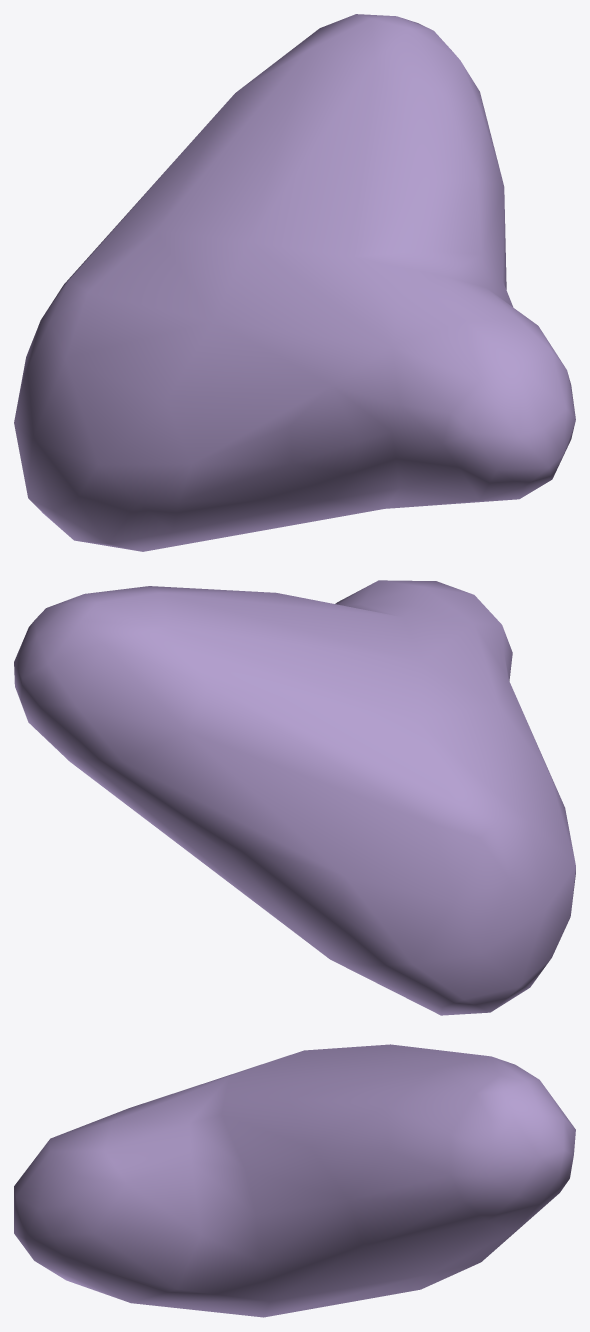
3 views of the same model, one above another, from view 1: azimuth 30°, elevation 25°; view 2: azimuth 150°, elevation 25°; view 3: azimuth 270°, elevation 25° (orthographic). The views are drawn at different scales.
Parts seen in each view (by area): view 1: 左侧泪小管壶腹; view 2: 左侧泪小管壶腹; view 3: 左侧泪小管壶腹.
Part boxes in pixels (box(x1,y1,x2,y2)): 左侧泪小管壶腹: box(14, 14, 575, 551); 左侧泪小管壶腹: box(14, 580, 575, 1015); 左侧泪小管壶腹: box(14, 1044, 575, 1317).
Size of the model in its own units: 0.00446 by 0.00339 by 0.00499.
